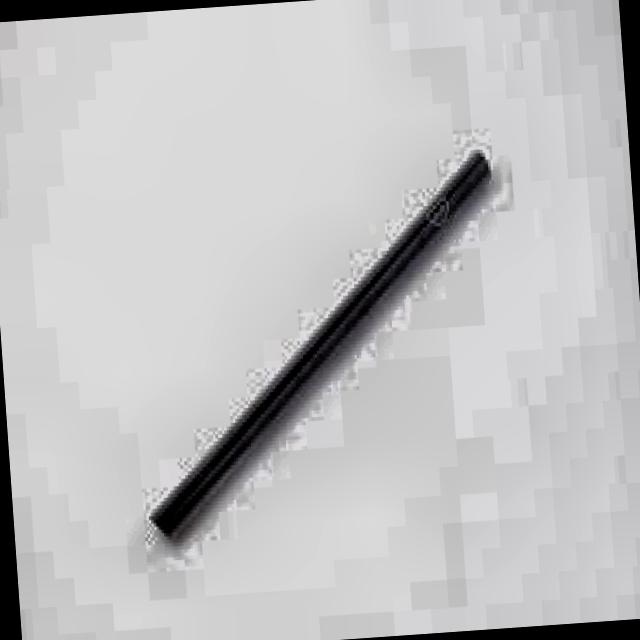plastic straw: (151, 152, 489, 532)
